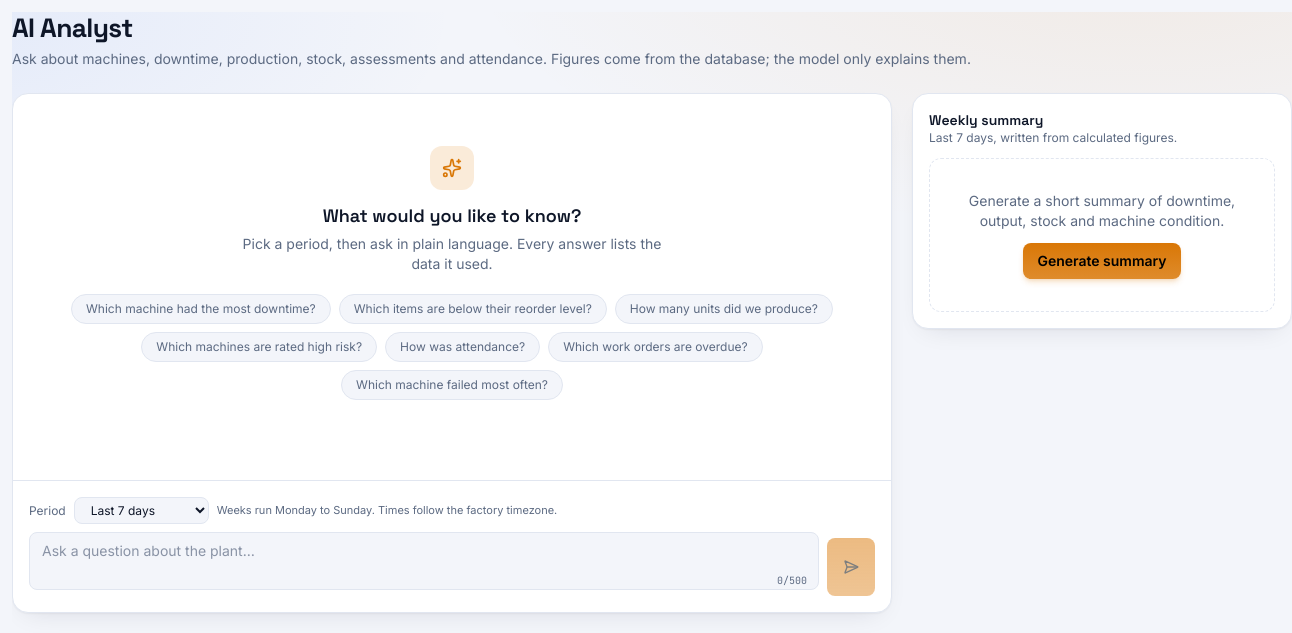
Test case: asking a question › shows a clarification request as such, without figures
Step 1. Type "How is it doing?" into the text box named "Your question" → (424, 561), box [29,532,819,590]
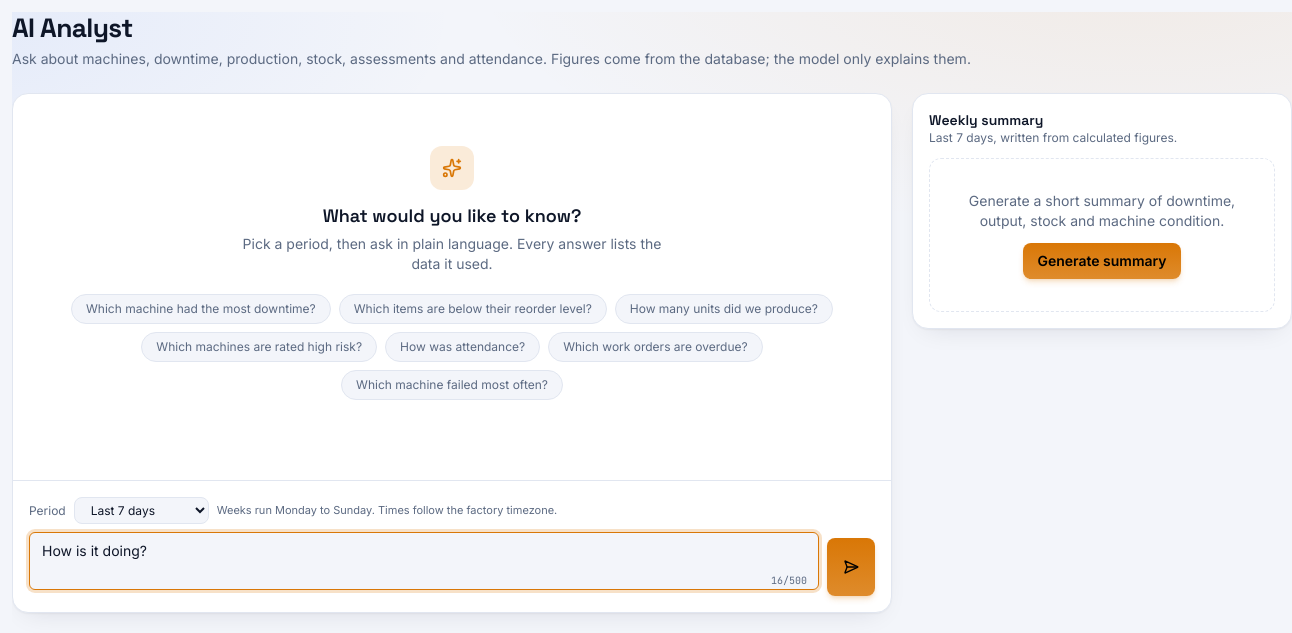
Step 2. Press Enter
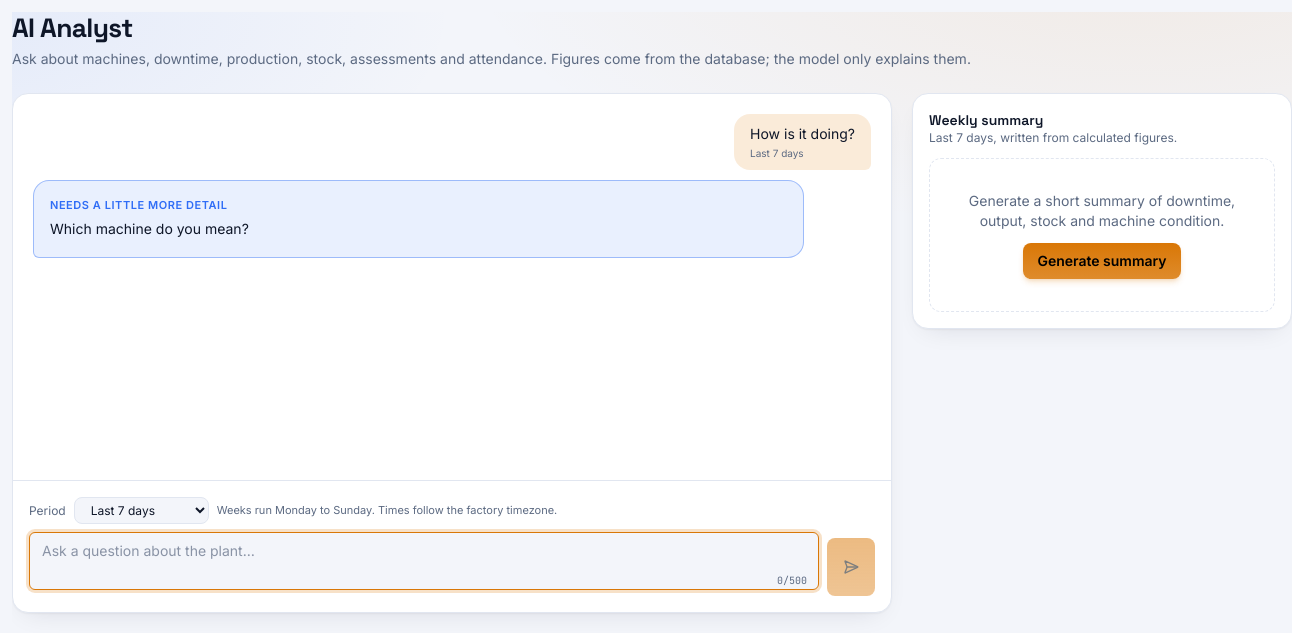
Check: the text "Needs a little more detail" is shown, box [50,198,227,212]
Check: the text "Which machine do you mean?" is shown, box [50,220,249,237]
